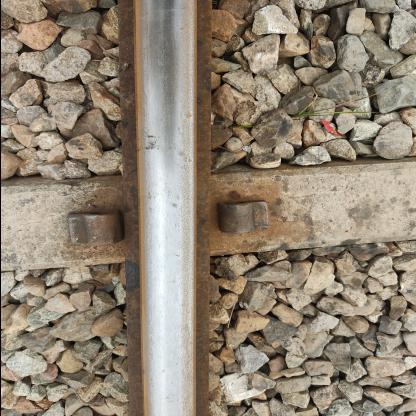Defective: (26, 151, 290, 276)
